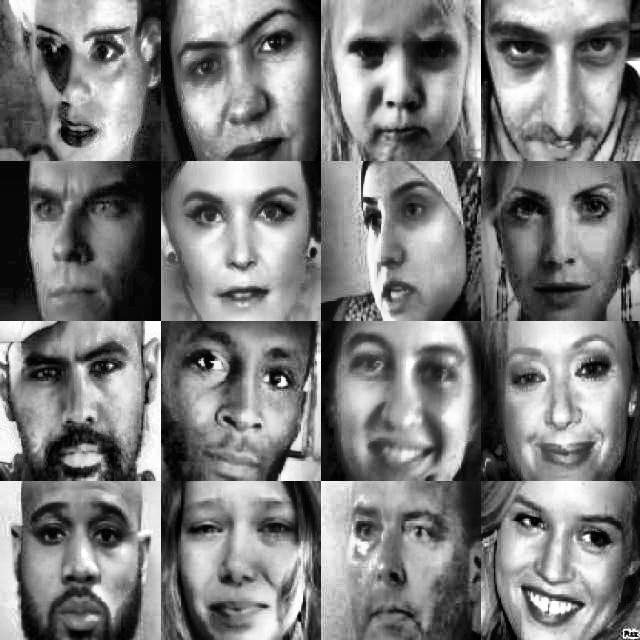angry: (9, 327, 145, 476), (490, 13, 630, 156), (177, 8, 311, 157), (338, 14, 462, 152), (26, 169, 146, 311)
fear: (24, 8, 141, 154)
happy: (339, 323, 470, 475), (499, 489, 625, 633), (502, 330, 624, 478), (498, 171, 626, 311), (178, 174, 302, 314)
neutral: (338, 166, 476, 320), (178, 322, 304, 473), (22, 489, 133, 638), (343, 494, 454, 634)
sad: (178, 491, 300, 633)
